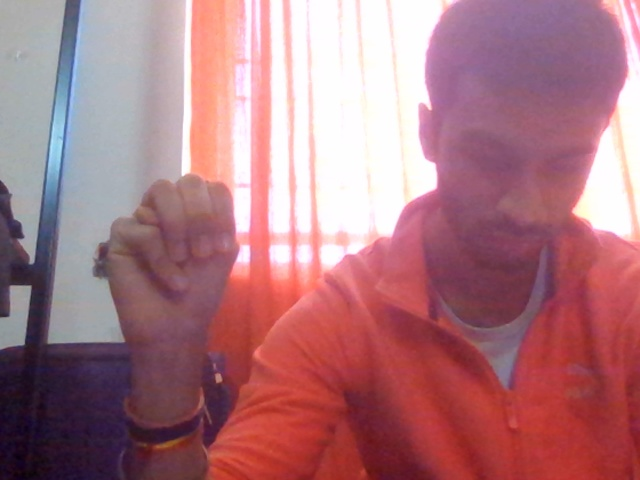M: (95, 144, 255, 414)
